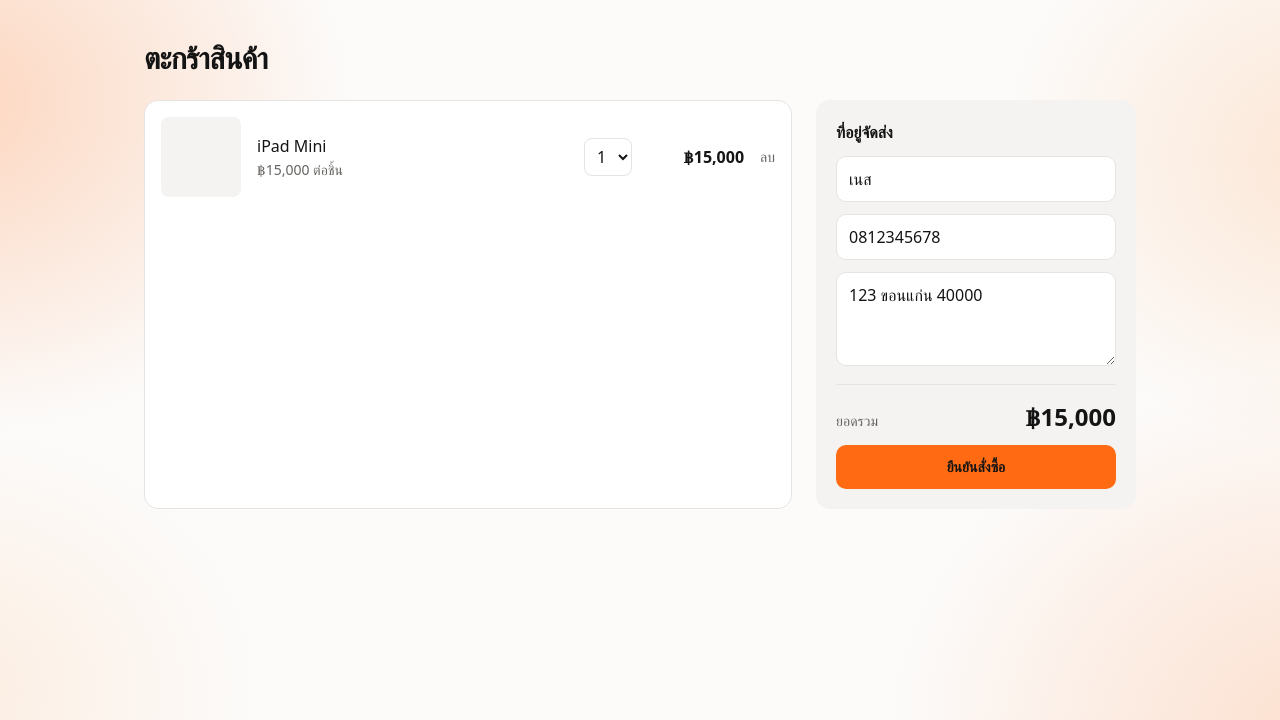
สั่งซื้อไม่ผ่านเพราะสต็อกไม่พอ ต้องแสดงข้อความจาก server และอยู่หน้าเดิม
Expected: the text with test id "cart-total" is shown, [1026,401,1116,433]
Click the button "ยืนยันสั่งซื้อ" at point(976, 467), box [836,445,1116,489]
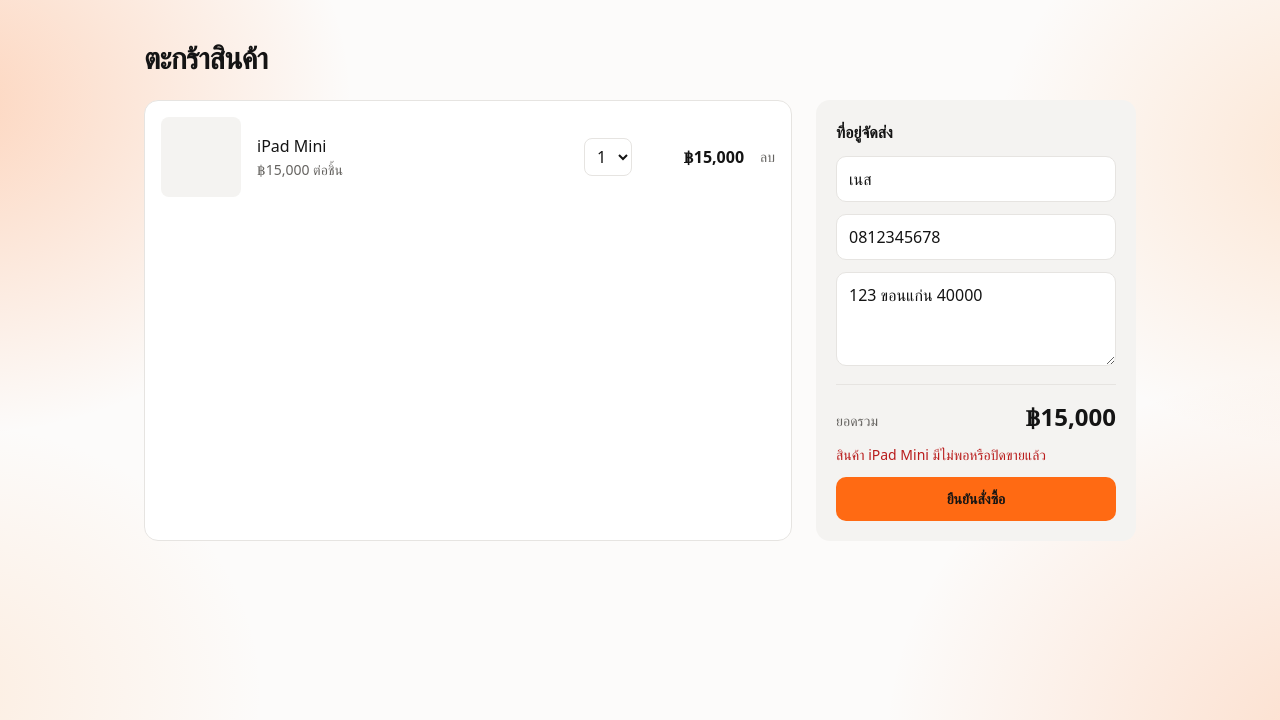
Now the message shows "มีไม่พอ", box [836,445,1046,464]
